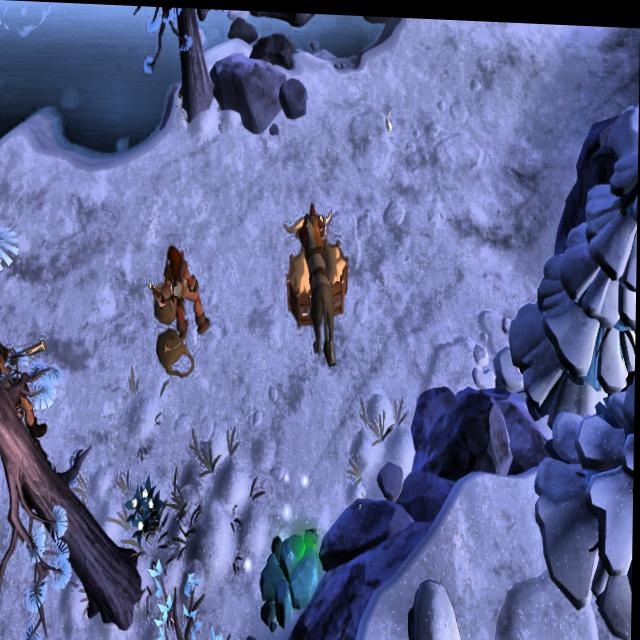enemy_factionKeeper: (168, 235, 210, 341)
fiber_t4: (125, 472, 168, 544)
rock_t4: (259, 514, 323, 631)
